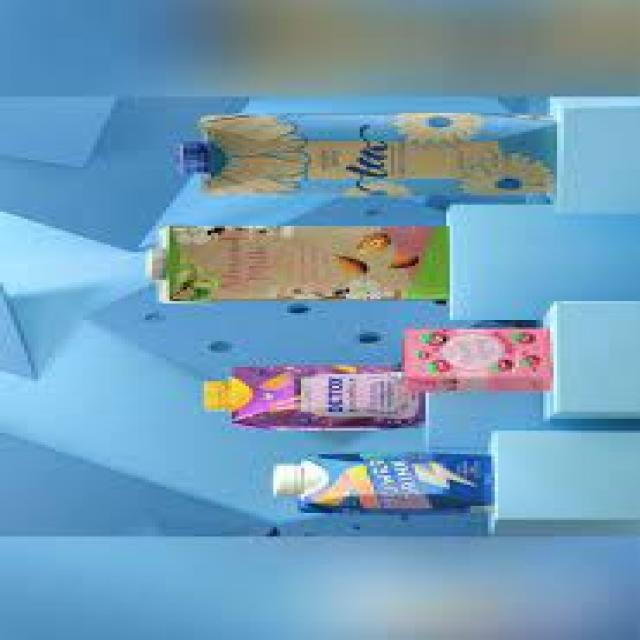non_white_jug: (170, 108, 559, 198), (146, 224, 452, 302), (202, 364, 428, 428), (271, 449, 501, 511), (396, 323, 558, 388)
